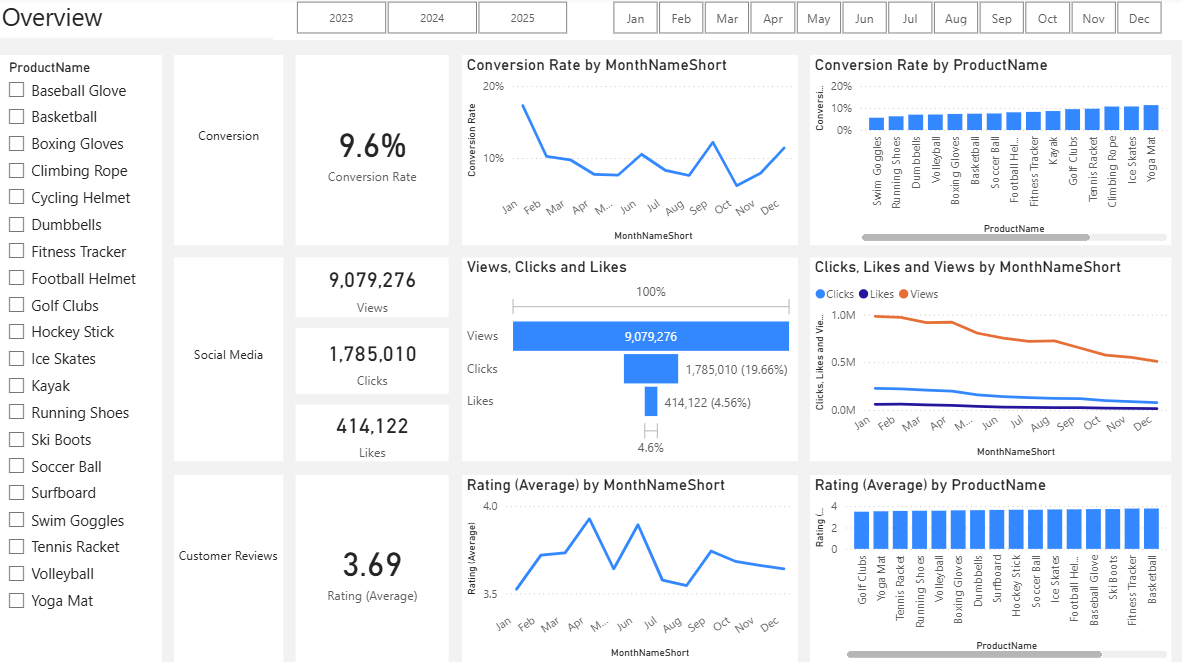

What the dashboard file says about the page in this screenshot:
{"tool":"powerbi","page":{"name":"Overview","canvas":[1280,720],"ordinal":0},"visuals":[{"type":"textbox","box":[0,0,1280.8,47],"z":0},{"type":"slicer","fields":{"Values":["dim_products.ProductName"]},"box":[0,64.8,178.1,655.8],"z":1000},{"type":"textbox","box":[191.1,64.8,118.2,205.6],"z":2000},{"type":"textbox","box":[191.1,283.4,118.2,220.2],"z":3000},{"type":"textbox","box":[191.1,518.2,118.2,202.4],"z":4000},{"type":"card","fields":{"Values":["_Calculations.Conversion Rate"]},"box":[322.2,64.8,165.2,205.6],"z":5000},{"type":"card","fields":{"Values":["_Calculations.Views"]},"box":[322.2,283.4,165.2,64.8],"z":6000},{"type":"card","fields":{"Values":["_Calculations.Clicks"]},"box":[322.2,359.5,165.2,71.2],"z":7000},{"type":"card","fields":{"Values":["_Calculations.Likes"]},"box":[322.2,442,165.2,61.5],"z":8000},{"type":"card","fields":{"Values":["_Calculations.Rating (Average)"]},"box":[322.2,518.2,165.2,202.4],"z":9000},{"type":"slicer","fields":{"Values":["Calendar.Year"]},"box":[297.9,0,341.7,48.6],"z":10000},{"type":"slicer","fields":{"Values":["Calendar.MonthNameShort"]},"box":[639.6,0,641.2,48.6],"z":11000},{"type":"lineChart","fields":{"Y":["_Calculations.Conversion Rate"],"Category":["Calendar.MonthNameShort"]},"box":[502,64.8,362.7,205.6],"z":12000},{"type":"clusteredColumnChart","fields":{"Y":["_Calculations.Conversion Rate"],"Category":["dim_products.ProductName"]},"box":[877.6,64.8,390.2,205.6],"z":13000},{"type":"lineChart","fields":{"Category":["Calendar.MonthNameShort"],"Y":["_Calculations.Clicks","_Calculations.Likes","_Calculations.Views"]},"box":[877.6,283.4,390.2,220.2],"z":14000},{"type":"funnel","fields":{"Y":["_Calculations.Views","_Calculations.Clicks","_Calculations.Likes"]},"box":[502,283.4,362.7,220.2],"z":15000},{"type":"lineChart","fields":{"Category":["Calendar.MonthNameShort"],"Y":["_Calculations.Rating (Average)"]},"box":[502,518.2,362.7,202.4],"z":16000},{"type":"clusteredColumnChart","fields":{"Y":["_Calculations.Rating (Average)"],"Category":["dim_products.ProductName"]},"box":[877.6,518.2,390.2,202.4],"z":17000}]}

Visuals, with their boxes in screenshot pixels (x1, y1, x2, y2), scaled from the page's 1280x720 canvas onto the 1182x663 screenshot:
textbox: 0,0,1181,43
slicer - dim_products.ProductName: 0,60,164,662
textbox: 176,60,286,249
textbox: 176,261,286,464
textbox: 176,477,286,662
card - _Calculations.Conversion Rate: 298,60,450,249
card - _Calculations.Views: 298,261,450,321
card - _Calculations.Clicks: 298,331,450,397
card - _Calculations.Likes: 298,407,450,464
card - _Calculations.Rating (Average): 298,477,450,662
slicer - Calendar.Year: 275,0,591,45
slicer - Calendar.MonthNameShort: 591,0,1181,45
lineChart - _Calculations.Conversion Rate x Calendar.MonthNameShort: 464,60,798,249
clusteredColumnChart - _Calculations.Conversion Rate x dim_products.ProductName: 810,60,1171,249
lineChart - Calendar.MonthNameShort x _Calculations.Clicks: 810,261,1171,464
funnel - _Calculations.Views x _Calculations.Clicks: 464,261,798,464
lineChart - Calendar.MonthNameShort x _Calculations.Rating (Average): 464,477,798,662
clusteredColumnChart - _Calculations.Rating (Average) x dim_products.ProductName: 810,477,1171,662
